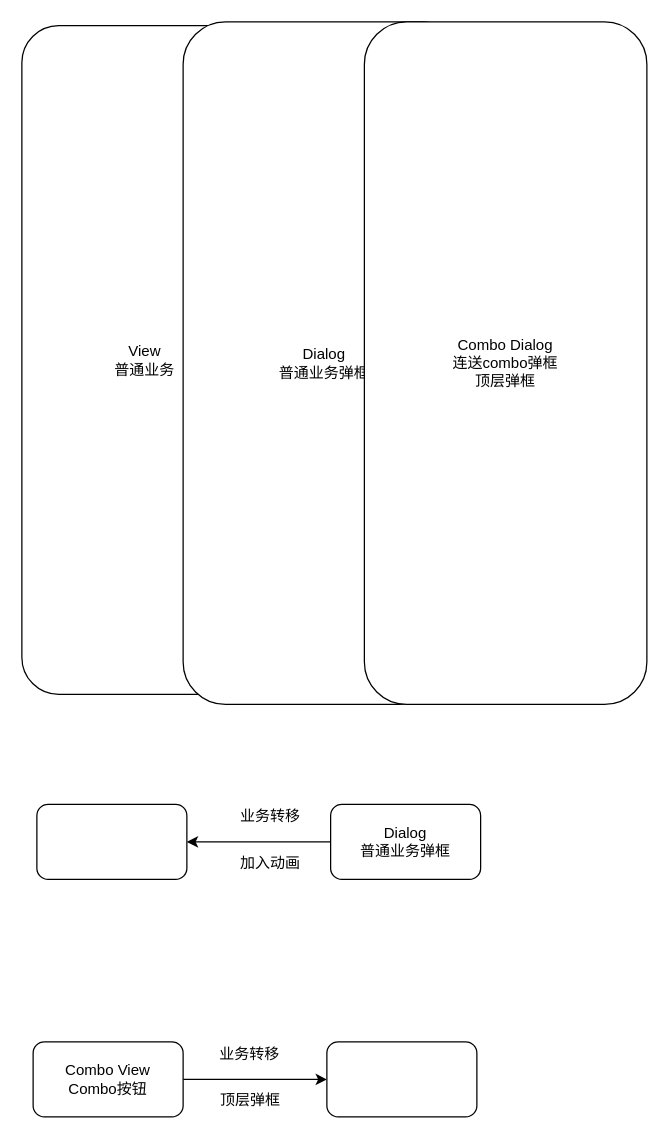
Image size: 669x1139. Some labels were removed from this diagram. Each missing label, with the centre of its shape:
"Combo Dialog 顶层弹框" belongs at (401,1079).
"TopView 顶层业务" belongs at (111,841).
